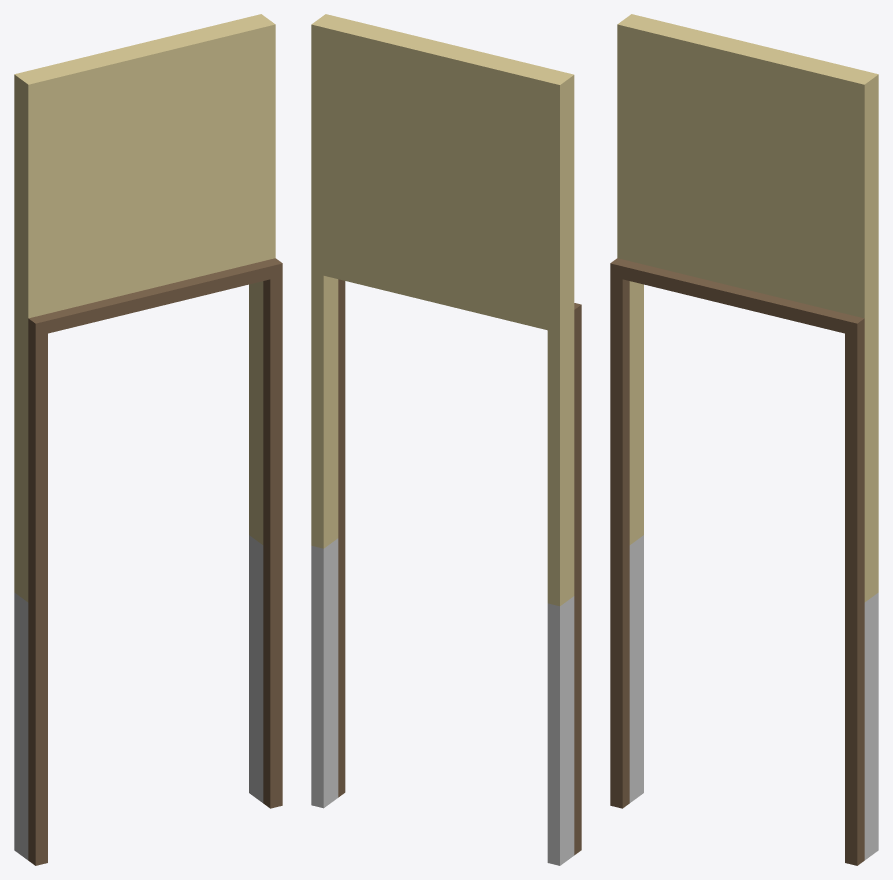
File: Mesh_DoorHole2Colors_09.fbx
3 renders of one model, left to right at view 1: azimuth 30°, elevation 25°; view 2: azimuth 150°, elevation 25°; view 3: azimuth 330°, elevation 25°, orthographic.
Parts seen in each view (by area): view 1: Mesh_DoorHole2Colors_09; view 2: Mesh_DoorHole2Colors_09; view 3: Mesh_DoorHole2Colors_09.
Boxes of the visible parts, bbox=[...] form: Mesh_DoorHole2Colors_09: bbox=[14, 14, 282, 865]; Mesh_DoorHole2Colors_09: bbox=[311, 14, 581, 865]; Mesh_DoorHole2Colors_09: bbox=[610, 14, 878, 865].
Size of the model in its own units: 1 by 3 by 0.15.
